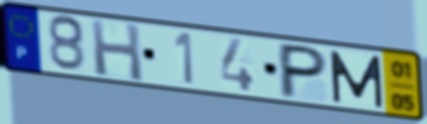1: (172, 32, 196, 88)
4: (219, 36, 256, 95)
8: (45, 14, 88, 74)
H: (88, 18, 147, 85)
M: (327, 48, 386, 110)
P: (277, 41, 330, 100)
